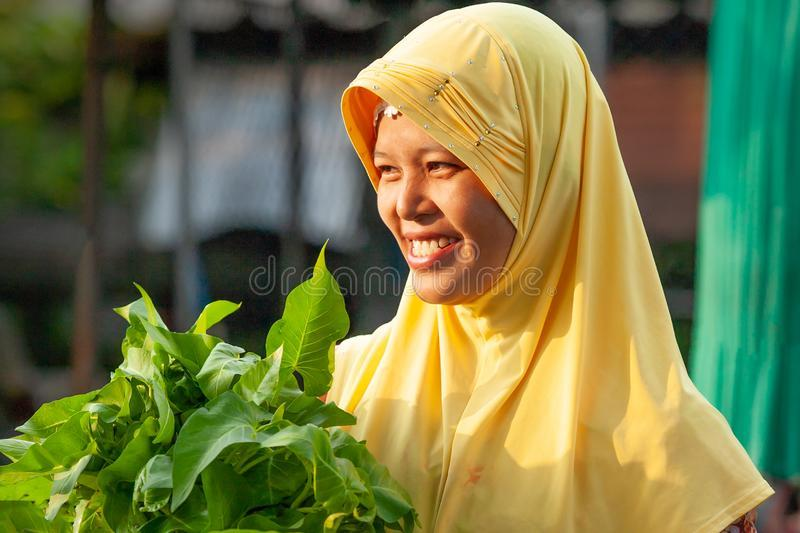No Mask: (332, 86, 536, 331)
